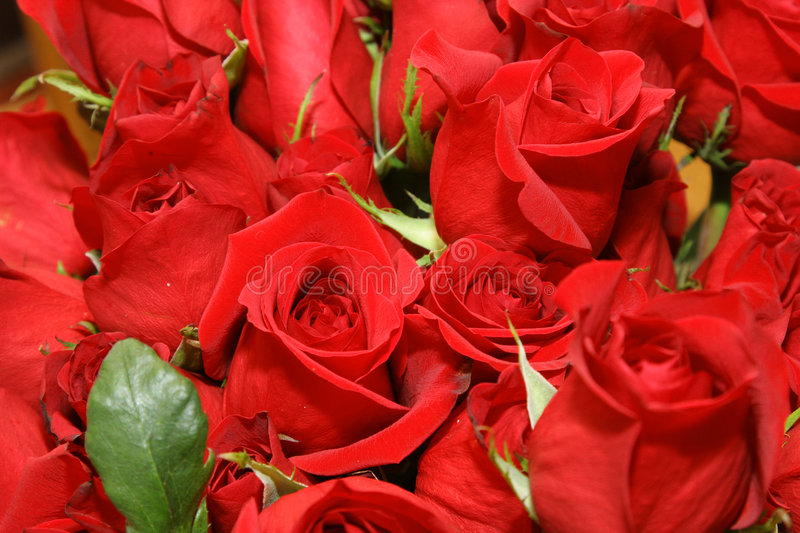RedRose: (517, 248, 798, 533), (416, 22, 668, 297), (214, 184, 419, 478)
